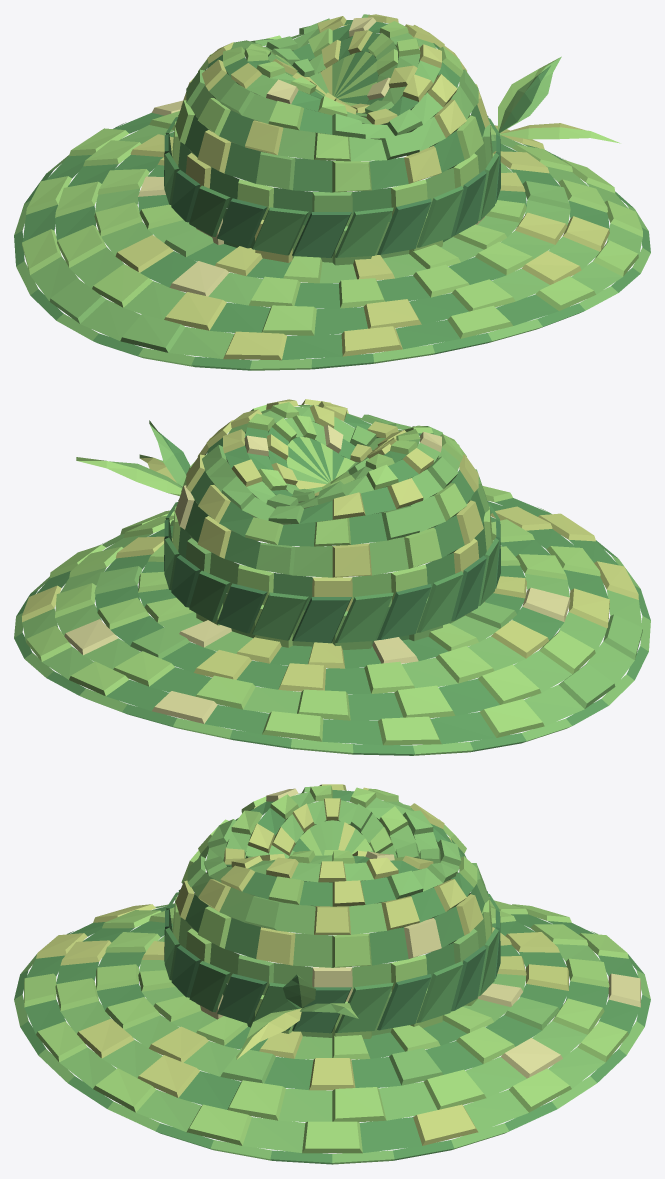
File: sombrero-tejido-palma.glb
The picture shows the model from 3 angles, top to bottom: view 1: azimuth 30°, elevation 25°; view 2: azimuth 150°, elevation 25°; view 3: azimuth 270°, elevation 25°; orthographic projection.
Parts seen in each view (by area): view 1: sombrero-tejido-palma; view 2: sombrero-tejido-palma; view 3: sombrero-tejido-palma.
Part boxes in pixels (x1=…): sombrero-tejido-palma: x1=14, y1=14, x2=650, y2=370; sombrero-tejido-palma: x1=14, y1=399, x2=650, y2=755; sombrero-tejido-palma: x1=14, y1=784, x2=650, y2=1164.
Bounding box in the file's own units: 0.884 × 0.3243 × 0.884.
